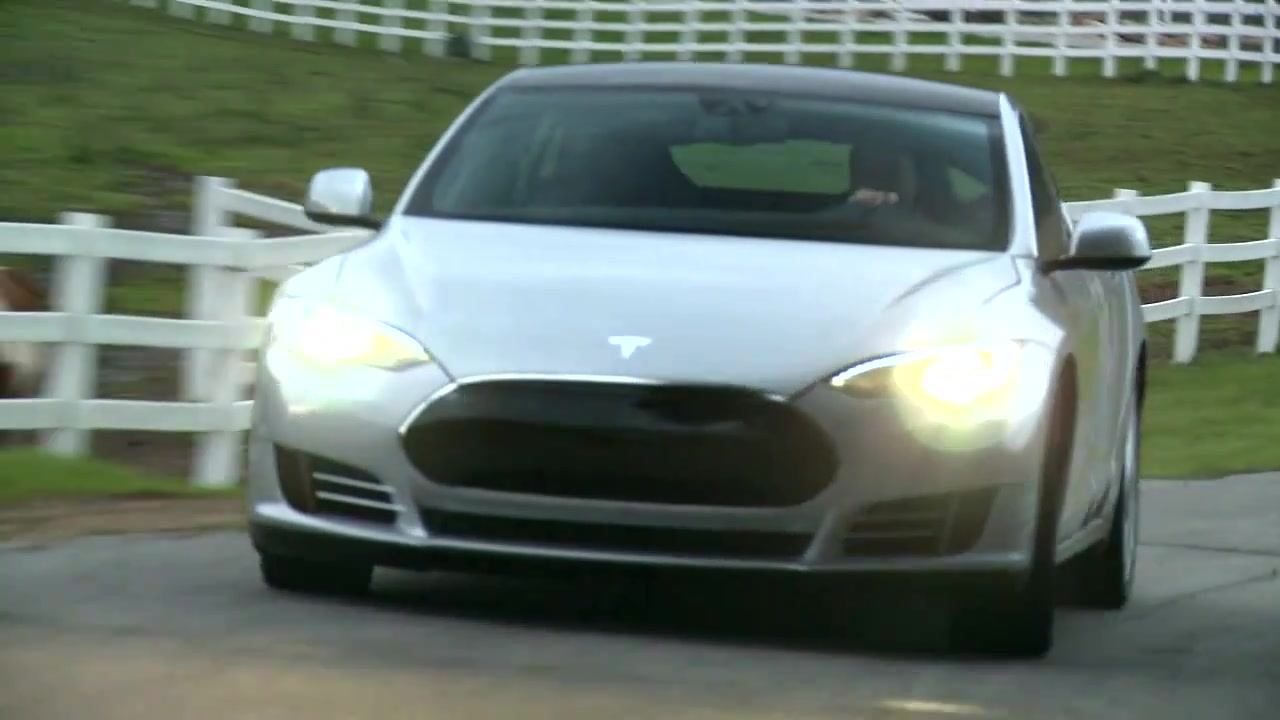car: (232, 61, 1156, 674)
